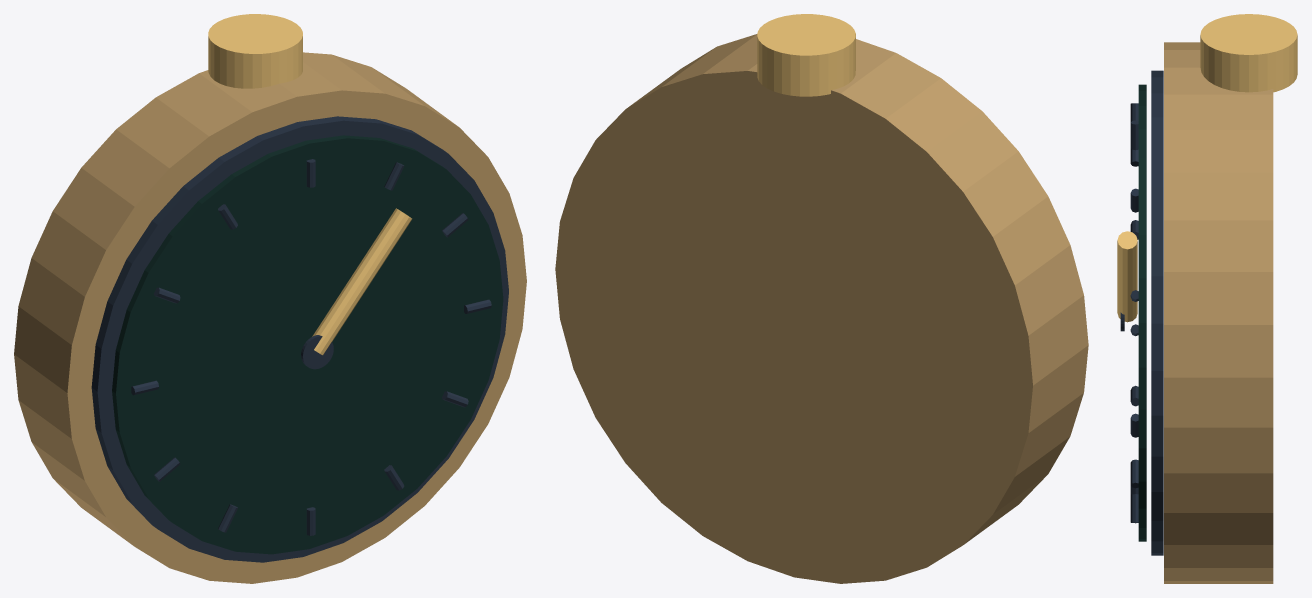
File: timer.glb
3 renders of one model, left to right at view 1: azimuth 30°, elevation 25°; view 2: azimuth 150°, elevation 25°; view 3: azimuth 270°, elevation 25°, orthographic. The views are drawn at different scales.
Parts seen in each view (by area): view 1: dial, housing, bezel, knob, timer hand0, hub; view 2: housing, knob; view 3: housing, knob, bezel, dial, timer hand0, tick 0, tick 5, tick 4.
Boxes of the visible parts, <box> form: dial: <box>112,135,503,554</box>; housing: <box>14,52,526,583</box>; bezel: <box>91,116,508,562</box>; knob: <box>208,14,302,88</box>; timer hand0: <box>312,208,411,355</box>; hub: <box>301,335,333,369</box>; housing: <box>555,34,1088,583</box>; knob: <box>757,14,855,96</box>; housing: <box>1164,42,1273,583</box>; knob: <box>1200,14,1297,92</box>; bezel: <box>1151,70,1163,555</box>; dial: <box>1138,84,1146,541</box>; timer hand0: <box>1117,231,1137,322</box>; tick 0: <box>1130,120,1138,150</box>; tick 5: <box>1130,494,1138,523</box>; tick 4: <box>1130,459,1138,488</box>.
Bounding box in the file's own units: 1.34 × 1.43 × 0.445.
